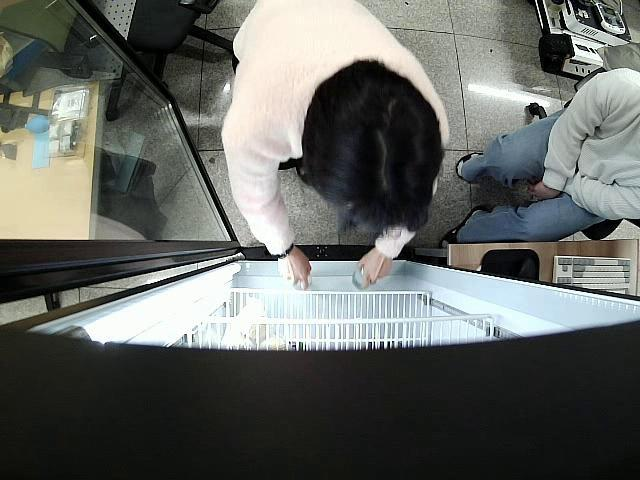18_trevi: (352, 266, 372, 290)
